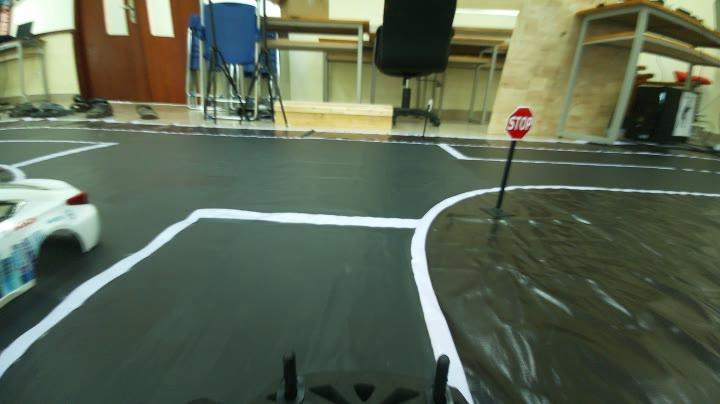car: (1, 154, 104, 300)
stop: (505, 106, 536, 140)
